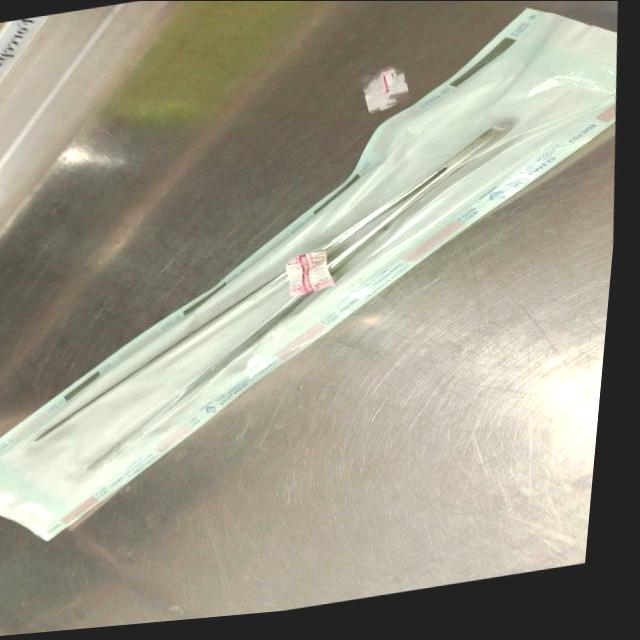Infectious: (0, 5, 615, 542)
